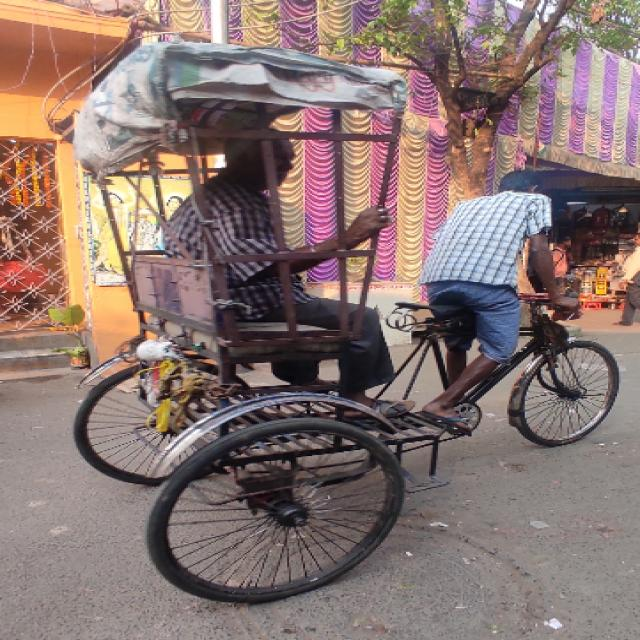rickshaw: (40, 34, 634, 607)
